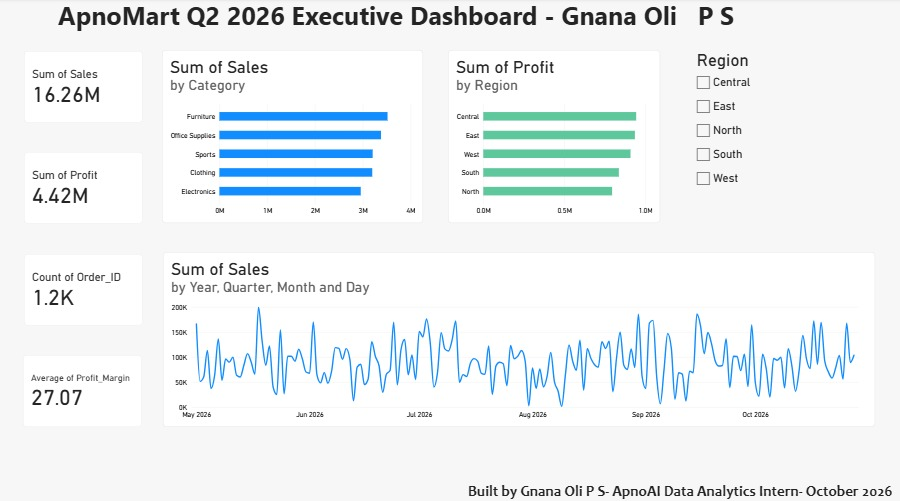

What the dashboard file says about the page in this screenshot:
{"tool":"powerbi","page":{"name":"Page 1","canvas":[1920,1080],"ordinal":0},"visuals":[{"type":"textbox","box":[132.5,0,1650,112.5],"z":0},{"type":"textbox","box":[1002.5,1030,917.5,50],"z":1000},{"type":"cardVisual","fields":{"Data":["Sum(apnomart-sales-data.Sales)"]},"box":[60,112,252,152],"z":2000},{"type":"cardVisual","fields":{"Data":["Sum(apnomart-sales-data.Profit)"]},"box":[60,328,252,152],"z":3000},{"type":"cardVisual","fields":{"Data":["Count(apnomart-sales-data.Order_ID)"]},"box":[60,544,252,152],"z":4000},{"type":"cardVisual","fields":{"Data":["Avg(apnomart-sales-data.Profit_Margin)"]},"box":[57.4,759,253,153.1],"z":5000},{"type":"barChart","fields":{"Category":["apnomart-sales-data.Category"],"Y":["Sum(apnomart-sales-data.Sales)"]},"box":[352.5,111.6,555.5,367.8],"z":6000},{"type":"lineChart","fields":{"Category":["apnomart-sales-data.Order_Date.Variation.Date Hierarchy.Year","apnomart-sales-data.Order_Date.Variation.Date Hierarchy.Quarter","apnomart-sales-data.Order_Date.Variation.Date Hierarchy.Month","apnomart-sales-data.Order_Date.Variation.Date Hierarchy.Day"],"Y":["Sum(apnomart-sales-data.Sales)"]},"box":[354,540,1514,372],"z":7000},{"type":"clusteredBarChart","fields":{"Category":["apnomart-sales-data.Region"],"Y":["Sum(apnomart-sales-data.Profit)"]},"box":[961.3,111.6,451.5,367.8],"z":8000},{"type":"slicer","fields":{"Values":["apnomart-sales-data.Region"]},"box":[1481.8,110.6,405.8,367.8],"z":8001}]}

Visuals, with their boxes in screenshot pixels (x1, y1, x2, y2), scaled from the page's 1920x1080 canvas onto the 900x501 screenshot:
textbox: select_region(62, 0, 836, 52)
textbox: select_region(470, 478, 899, 500)
cardVisual - Sum(apnomart-sales-data.Sales): select_region(28, 52, 146, 122)
cardVisual - Sum(apnomart-sales-data.Profit): select_region(28, 152, 146, 223)
cardVisual - Count(apnomart-sales-data.Order_ID): select_region(28, 252, 146, 323)
cardVisual - Avg(apnomart-sales-data.Profit_Margin): select_region(27, 352, 146, 423)
barChart - apnomart-sales-data.Category x Sum(apnomart-sales-data.Sales): select_region(165, 52, 426, 222)
lineChart - apnomart-sales-data.Order_Date.Variation.Date Hierarchy.Year x apnomart-sales-data.Order_Date.Variation.Date Hierarchy.Quarter: select_region(166, 250, 876, 423)
clusteredBarChart - apnomart-sales-data.Region x Sum(apnomart-sales-data.Profit): select_region(451, 52, 662, 222)
slicer - apnomart-sales-data.Region: select_region(695, 51, 885, 222)
